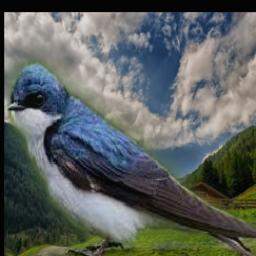Swallow: (6, 61, 256, 256)
